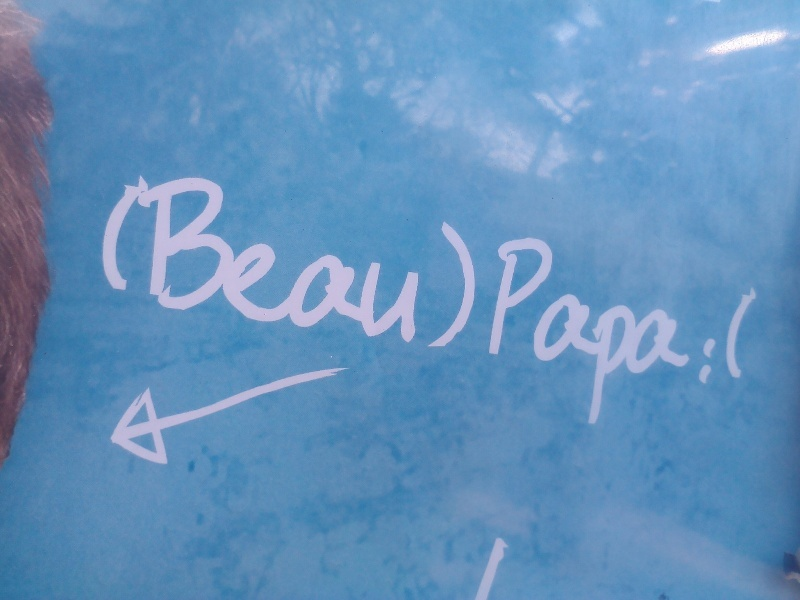text: (513, 229, 528, 443), (529, 229, 544, 443), (545, 229, 560, 443), (561, 229, 576, 443), (577, 229, 592, 443), (593, 229, 608, 443), (609, 229, 624, 443), (625, 229, 640, 443), (641, 229, 656, 443), (657, 229, 672, 443), (673, 229, 688, 443), (113, 160, 128, 355), (129, 160, 144, 355), (145, 160, 160, 355), (161, 160, 176, 355), (177, 160, 192, 355), (193, 160, 208, 355), (209, 160, 224, 355), (225, 160, 240, 355), (241, 160, 256, 355), (257, 160, 272, 355), (273, 160, 288, 355), (289, 160, 304, 355), (305, 160, 320, 355), (321, 160, 336, 355), (337, 160, 352, 355), (353, 160, 368, 355), (369, 160, 384, 355), (385, 160, 400, 355), (401, 160, 416, 355), (417, 160, 432, 355), (433, 160, 448, 355), (449, 160, 464, 355), (465, 160, 480, 355), (689, 229, 702, 443), (500, 229, 512, 443), (481, 160, 492, 355), (721, 279, 736, 390), (737, 279, 752, 390), (706, 279, 720, 390), (753, 279, 761, 390)
